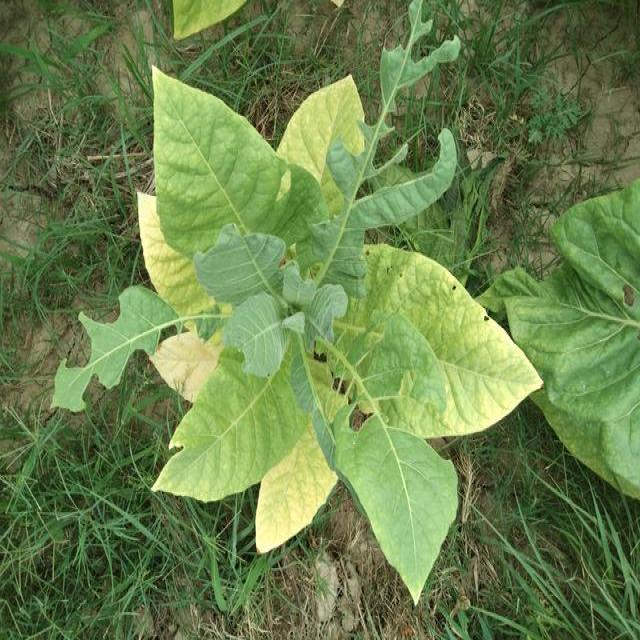crop: (53, 47, 546, 604)
